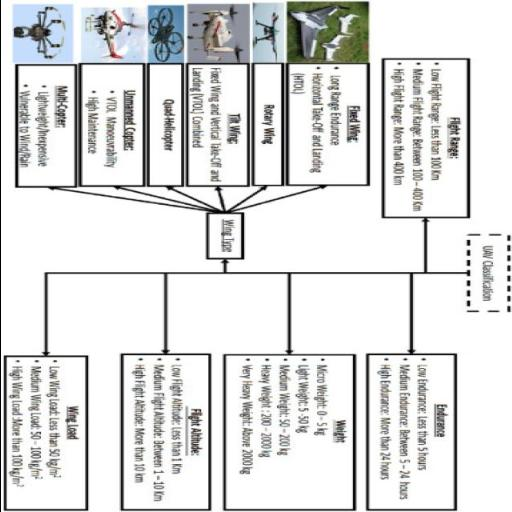uav: (336, 12, 365, 34)
